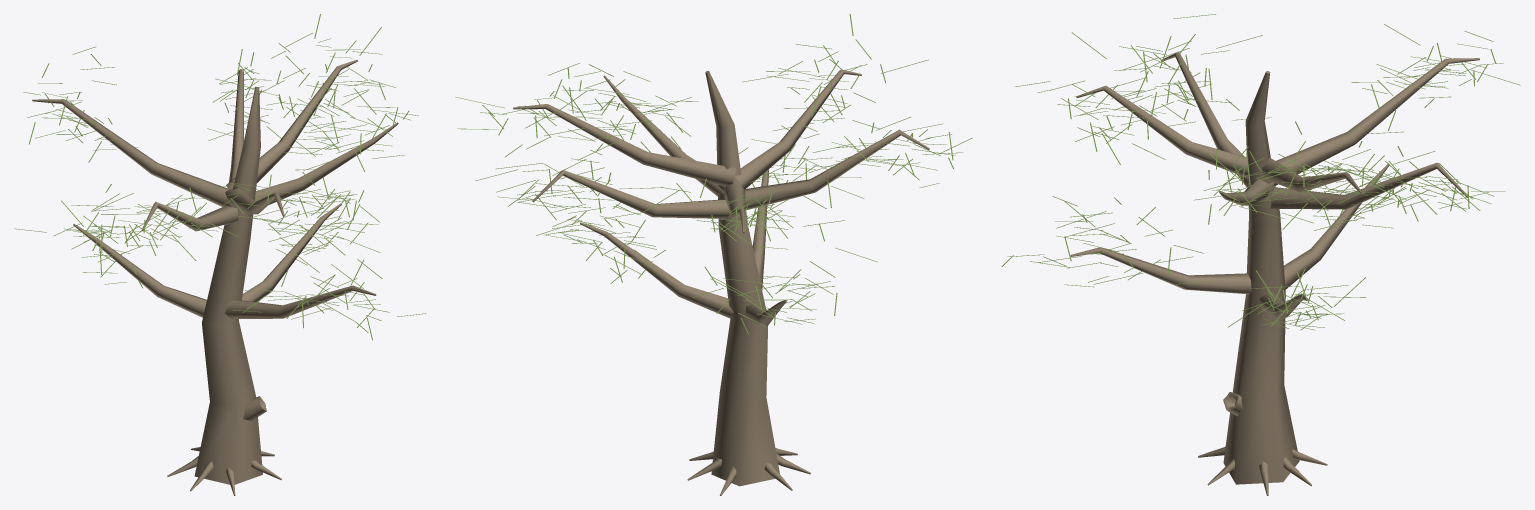
Rendered from hero_lod2.glb.
3 renders of one model, left to right at view 1: azimuth 30°, elevation 25°; view 2: azimuth 150°, elevation 25°; view 3: azimuth 270°, elevation 25°, orthographic. The views are drawn at different scales.
Parts seen in each view (by area): view 1: Bark, Leaves; view 2: Bark, Leaves; view 3: Bark, Leaves.
Boxes of the visible parts, x1,y1,x2,y2 form: Bark: [32, 59, 398, 495]; Leaves: [14, 14, 426, 340]; Bark: [513, 69, 929, 495]; Leaves: [455, 14, 972, 334]; Bark: [1070, 52, 1479, 495]; Leaves: [1001, 14, 1520, 330].
Size of the model in its own units: 13.53 by 12.39 by 13.98.
